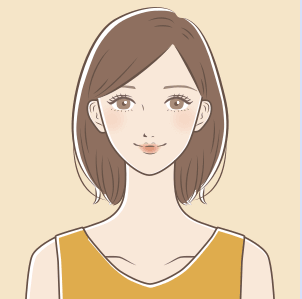가을 웜톤: (100, 91, 195, 174)
